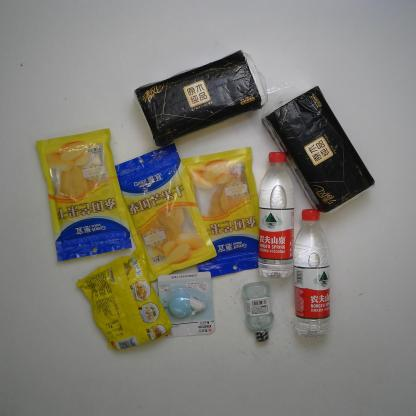Dried Fruit: (113, 139, 220, 282), (32, 127, 134, 261), (175, 148, 267, 277)
Drink: (259, 150, 299, 279), (294, 209, 333, 336)
Instant Noodles: (75, 252, 171, 353)
Personal Hygiene: (242, 281, 272, 345)
Stationery: (156, 270, 217, 339)
Tissue: (261, 88, 375, 214), (134, 46, 268, 146)
